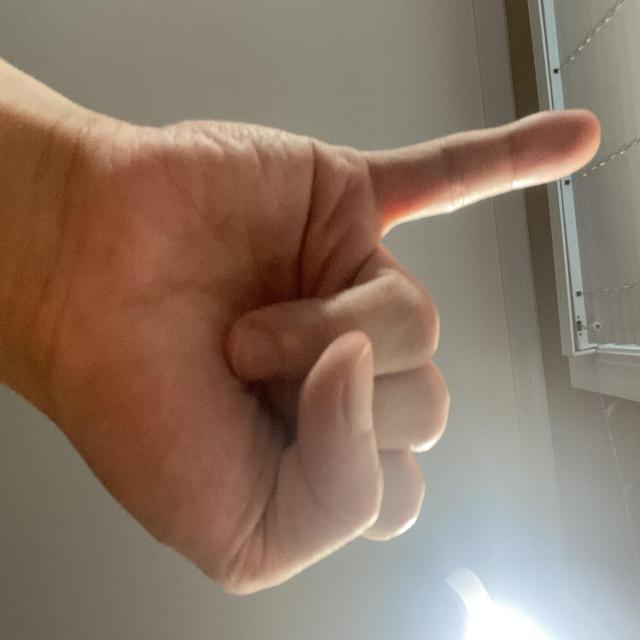I: (223, 45, 613, 640)
